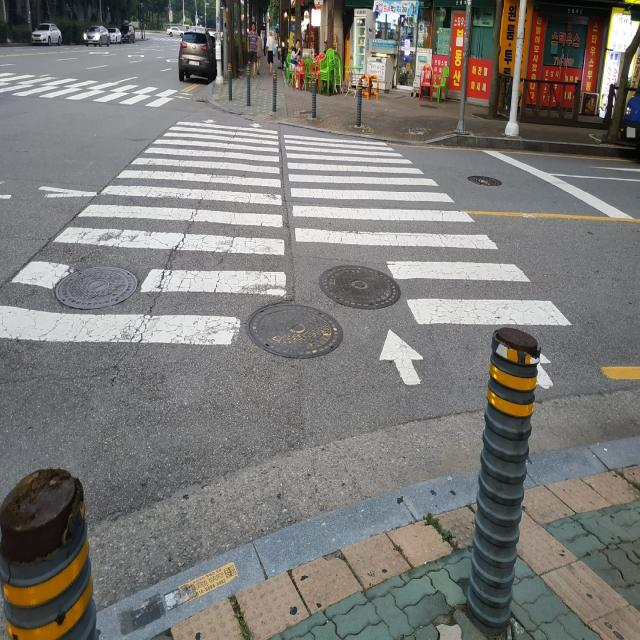횡단보도: (0, 117, 572, 389), (0, 68, 186, 114)
